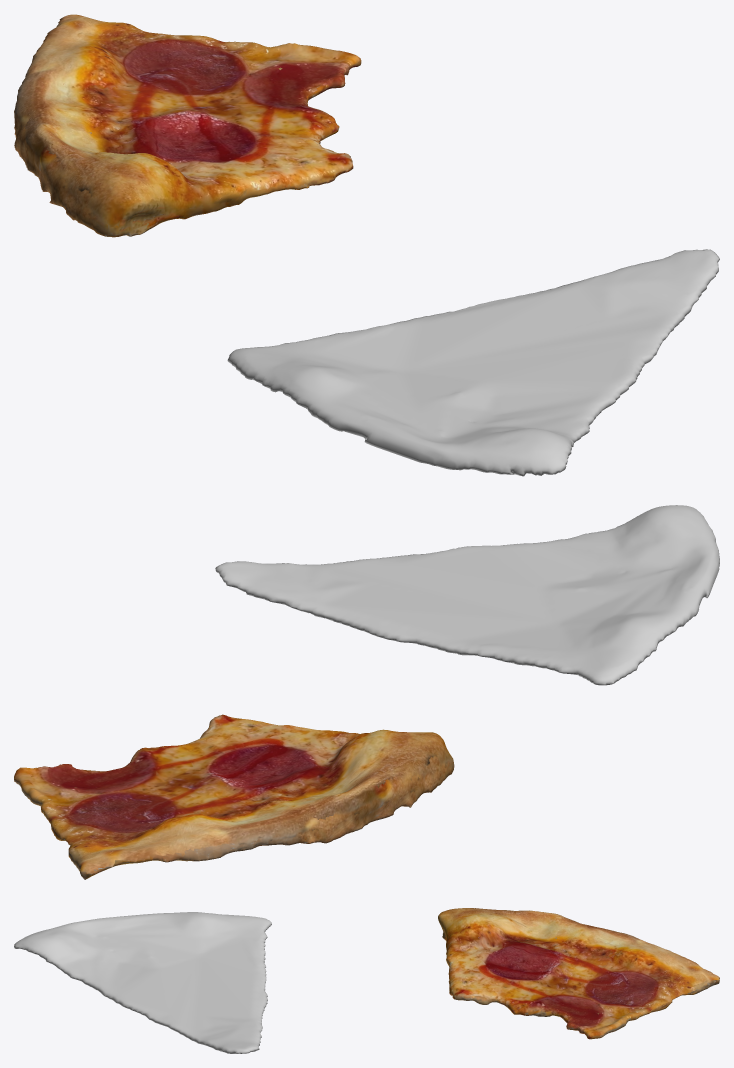
File: pizza slice.fbx
3 renders of one model, top to bottom at view 1: azimuth 30°, elevation 25°; view 2: azimuth 150°, elevation 25°; view 3: azimuth 270°, elevation 25°, orthographic. The views are drawn at different scales.
Visible parts, largest first — view 1: WholeMesh, BittenMesh; view 2: WholeMesh, BittenMesh; view 3: BittenMesh, WholeMesh.
Part boxes in pixels (<box>): WholeMesh: <box>227,249,719,476</box>; BittenMesh: <box>14,14,361,237</box>; WholeMesh: <box>215,505,719,685</box>; BittenMesh: <box>14,714,454,879</box>; BittenMesh: <box>438,908,719,1039</box>; WholeMesh: <box>14,912,271,1053</box>.
Size of the model in its own units: 44.87 by 20.69 by 2.6.
